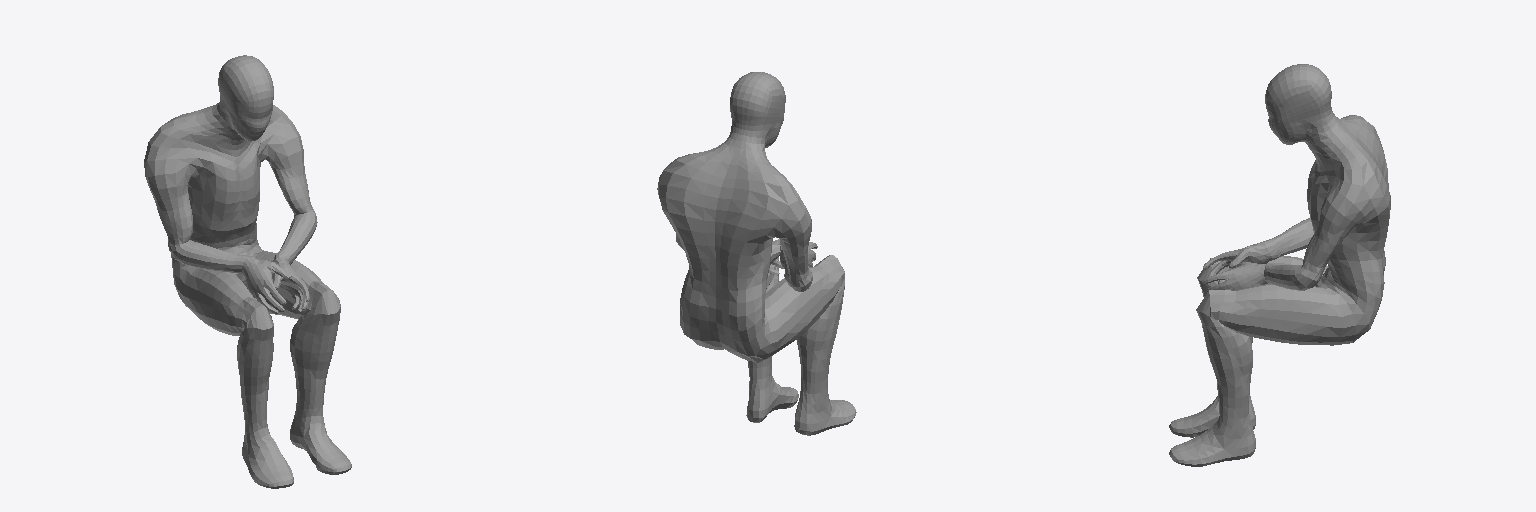
File: man_sitting.obj
3 views of the same model, side by side, from view 1: azimuth 30°, elevation 25°; view 2: azimuth 150°, elevation 25°; view 3: azimuth 270°, elevation 25° (orthographic).
Parts seen in each view (by area): view 1: Human_BaseMesh_Mesh; view 2: Human_BaseMesh_Mesh; view 3: Human_BaseMesh_Mesh.
Part boxes in pixels (x1,y1,x2,y2): Human_BaseMesh_Mesh: (144, 55, 351, 488); Human_BaseMesh_Mesh: (657, 72, 856, 435); Human_BaseMesh_Mesh: (1169, 64, 1390, 466).
Size of the model in its own units: 54.73 by 132 by 70.04.